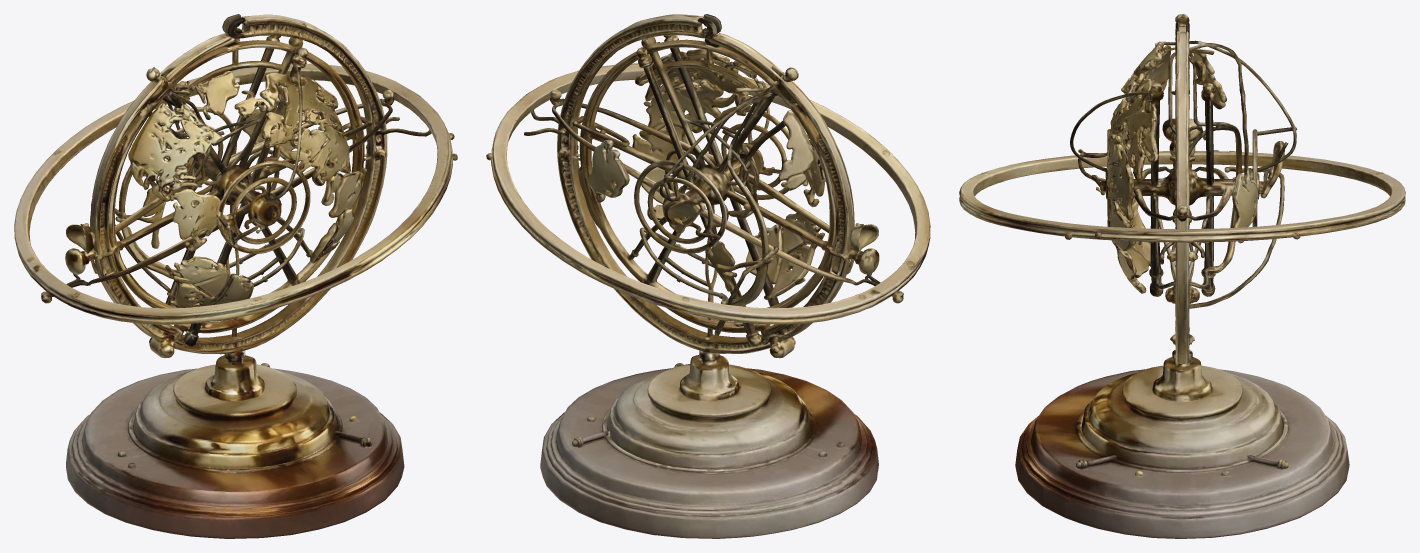
File: armillarysphere3dmodel.glb
3 views of the same model, side by side, from view 1: azimuth 30°, elevation 25°; view 2: azimuth 150°, elevation 25°; view 3: azimuth 270°, elevation 25° (orthographic).
Visible parts, largest first — view 1: tripo_node_fcc23d39-44f7-46c7-8168-dda46c3f869b; view 2: tripo_node_fcc23d39-44f7-46c7-8168-dda46c3f869b; view 3: tripo_node_fcc23d39-44f7-46c7-8168-dda46c3f869b.
Part boxes in pixels (x1,y1,x2,y2): tripo_node_fcc23d39-44f7-46c7-8168-dda46c3f869b: (14, 14, 457, 538); tripo_node_fcc23d39-44f7-46c7-8168-dda46c3f869b: (486, 14, 930, 538); tripo_node_fcc23d39-44f7-46c7-8168-dda46c3f869b: (959, 14, 1405, 538).
Bounding box in the file's own units: 0.8764 × 0.979 × 0.8899.
1 material, 1 textured.
